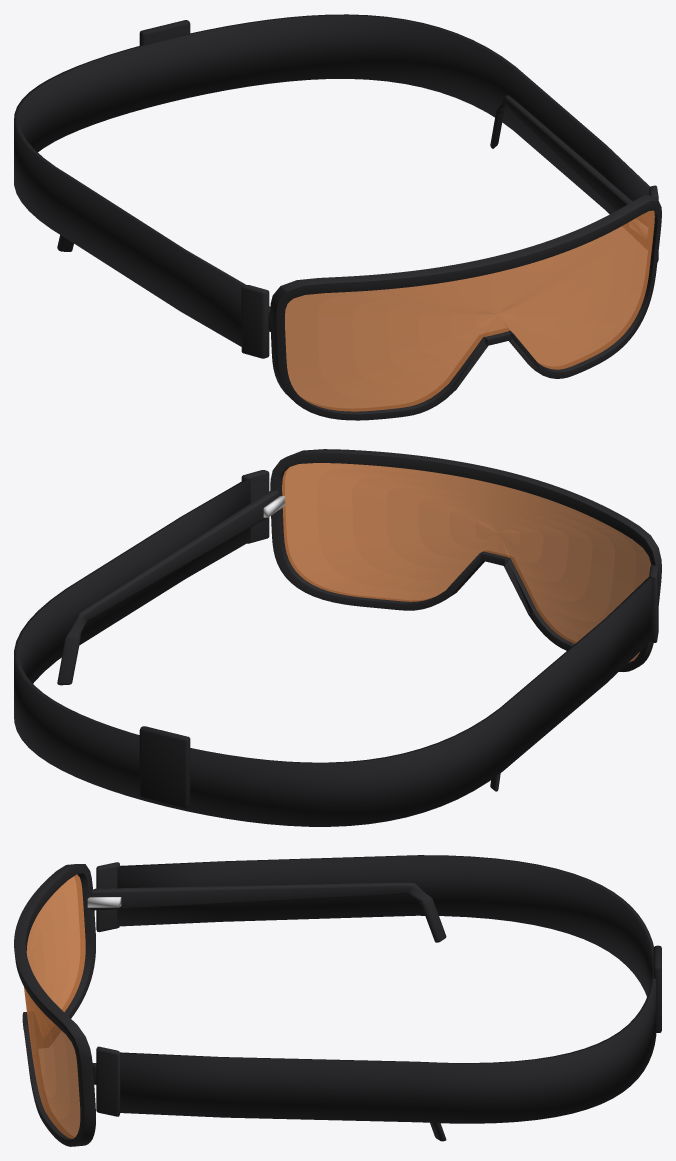
The model's file is strap.glb.
The picture shows the model from 3 angles, top to bottom: view 1: azimuth 30°, elevation 25°; view 2: azimuth 150°, elevation 25°; view 3: azimuth 270°, elevation 25°; orthographic projection. The views are drawn at different scales.
Parts seen in each view (by area): view 1: strap, lens, frame, temples; view 2: strap, lens, frame, temples; view 3: strap, frame, lens, temples.
Boxes of the visible parts, <box> form: strap: <box>14,14,649,346</box>; lens: <box>285,210,654,411</box>; frame: <box>241,185,661,420</box>; temples: <box>57,95,632,331</box>; strap: <box>14,479,651,826</box>; lens: <box>282,463,650,662</box>; frame: <box>241,449,661,671</box>; temples: <box>57,490,500,791</box>; strap: <box>117,855,661,1123</box>; frame: <box>14,862,120,1146</box>; lens: <box>24,874,85,1138</box>; temples: <box>90,882,446,1141</box>.
Size of the model in its own units: 0.1674 by 0.0521 by 0.2192.
